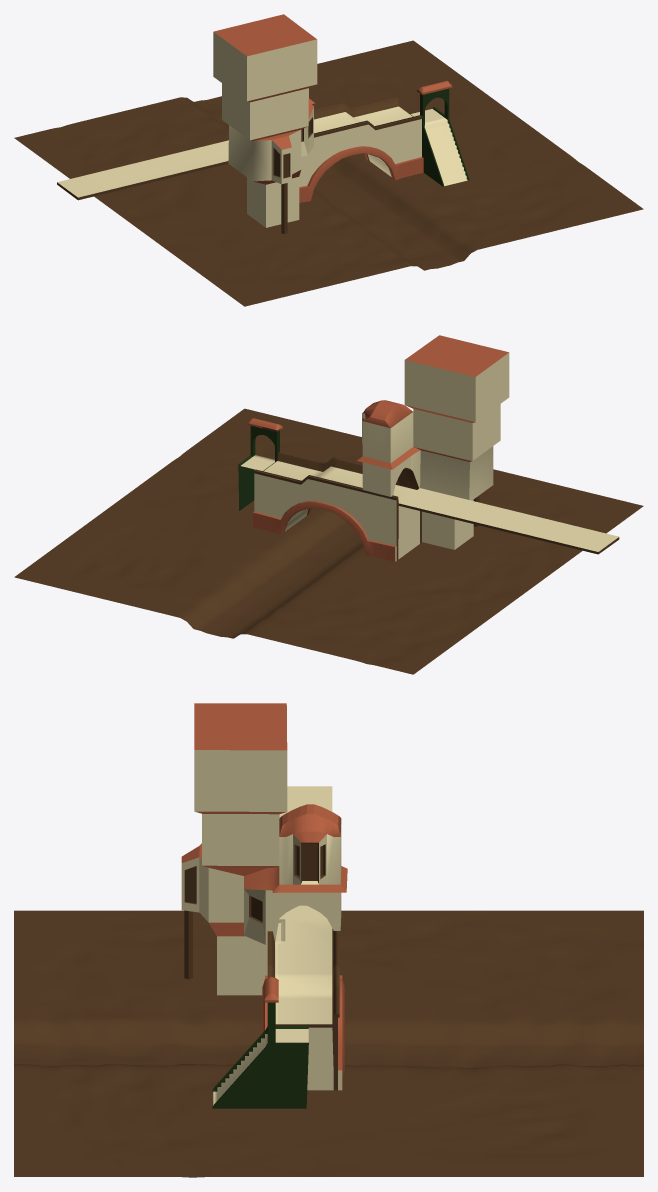
File: New bridge scene.fbx
3 views of the same model, one above another, from view 1: azimuth 30°, elevation 25°; view 2: azimuth 150°, elevation 25°; view 3: azimuth 270°, elevation 25° (orthographic). The views are drawn at different scales.
Parts seen in each view (by area): view 1: pPlane1, polySurface1, pCube5, pCube6; view 2: pPlane1, polySurface1, pCube5, pCube6; view 3: pPlane1, polySurface1, pCube5, pCube6.
Part boxes in pixels (box(x1,y1,x2,y2)): pPlane1: box(14, 40, 643, 306); polySurface1: box(213, 14, 317, 227); pCube5: box(57, 97, 423, 202); pCube6: box(409, 80, 469, 186); pPlane1: box(14, 408, 643, 674); polySurface1: box(357, 335, 509, 549); pCube5: box(253, 451, 619, 561); pCube6: box(238, 418, 282, 510); pPlane1: box(14, 910, 643, 1177); polySurface1: box(181, 703, 347, 995); pCube5: box(262, 786, 344, 1090); pCube6: box(212, 976, 308, 1108).
Size of the model in its own units: 72.6 by 28.98 by 61.64.
